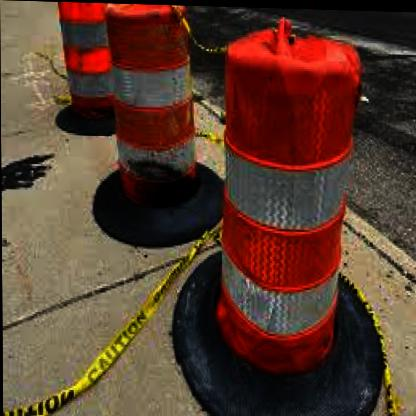obstacle: (212, 30, 389, 376)
